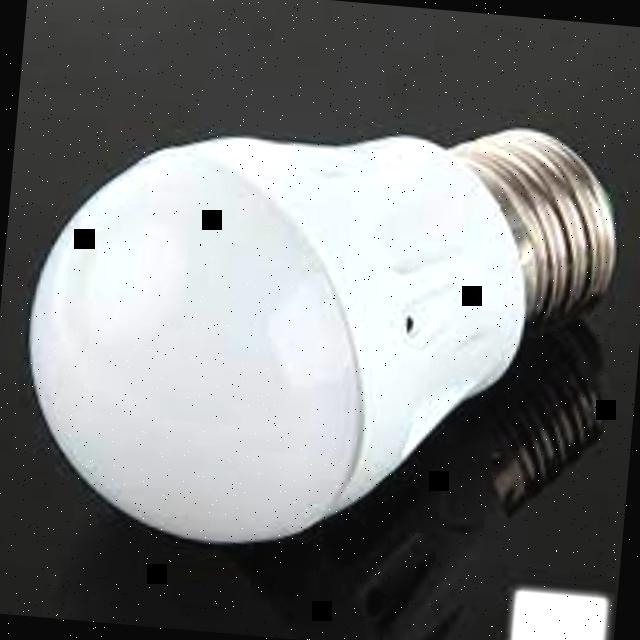light_bulb: (10, 84, 632, 574)
